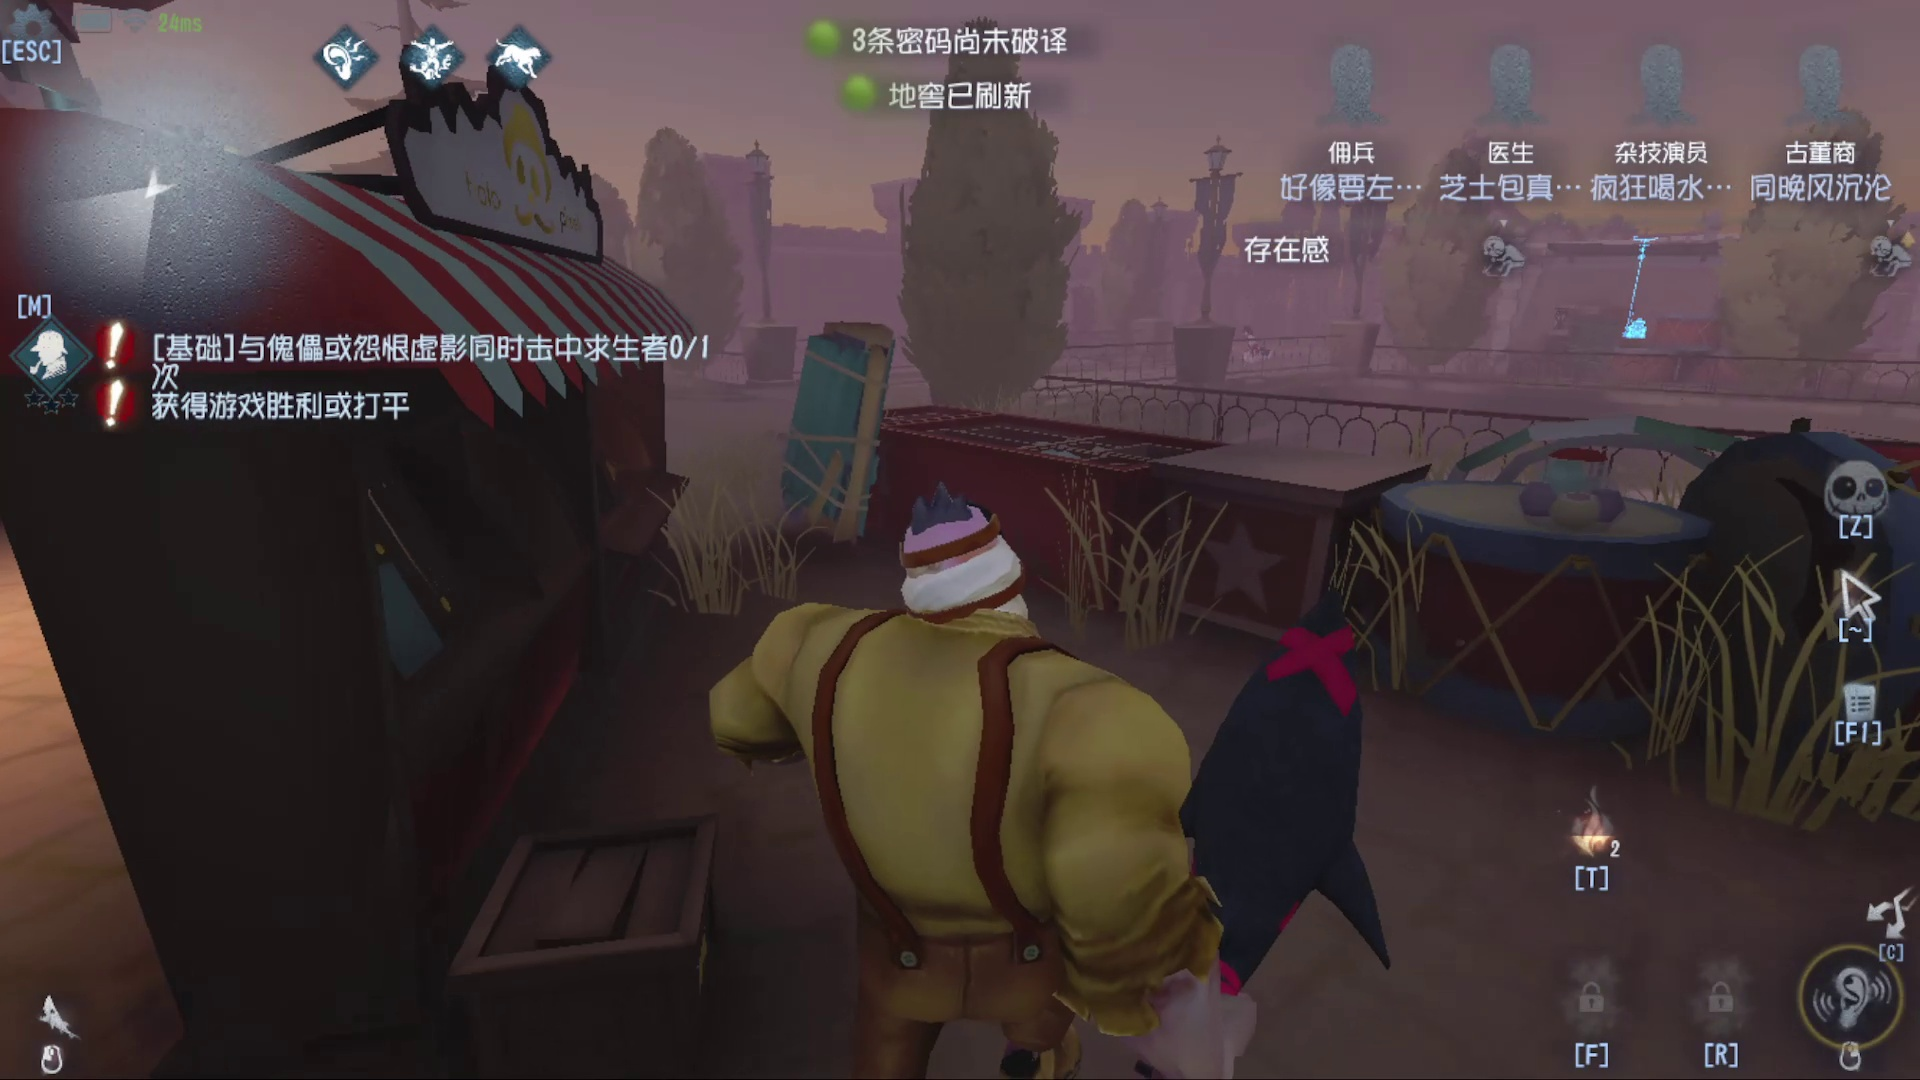密码机: (1622, 231, 1668, 344)
木板: (744, 305, 902, 560), (1563, 313, 1633, 376)
求生者: (1236, 318, 1274, 367)
